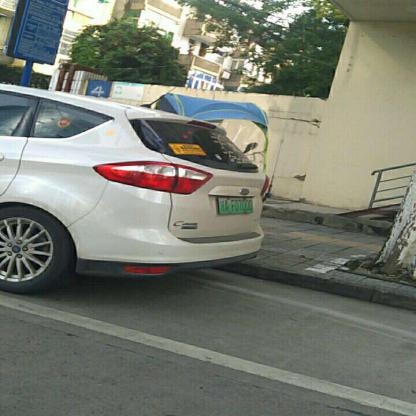lp: (218, 197, 254, 213)
